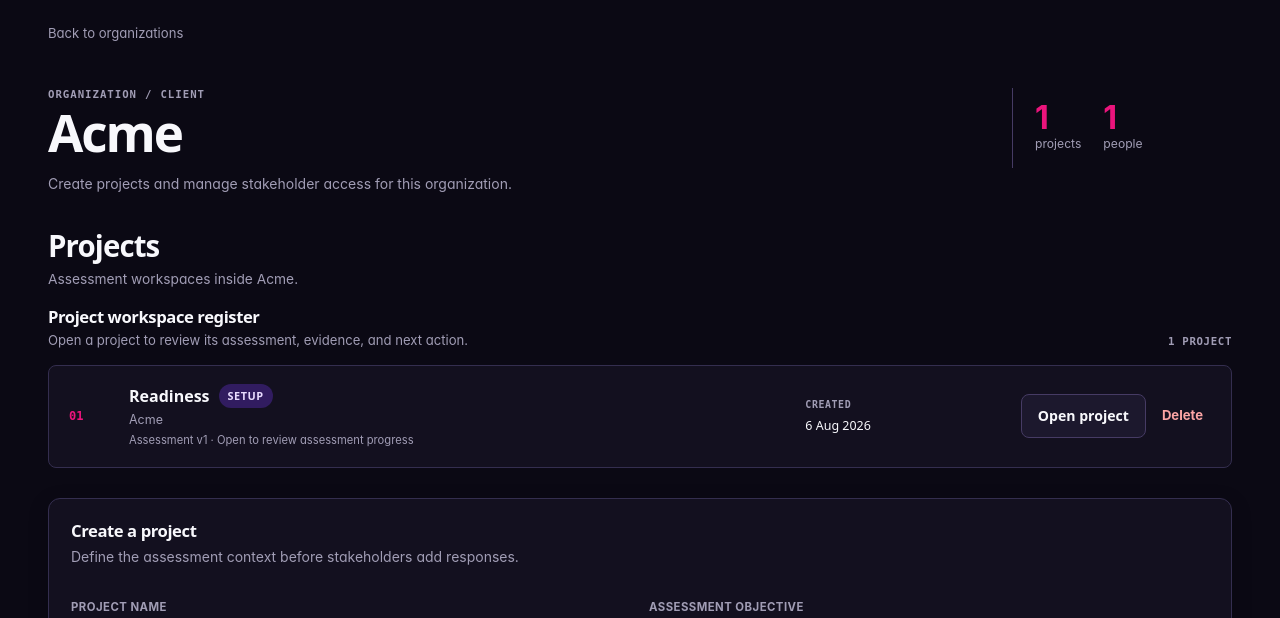
Test: shows a project deletion error and keeps the confirmation open
The image size is (1280, 618).
Click the button with aria-label "Delete Readiness" at (1182, 416), box [1154,394,1211,438]
(page scrolled)
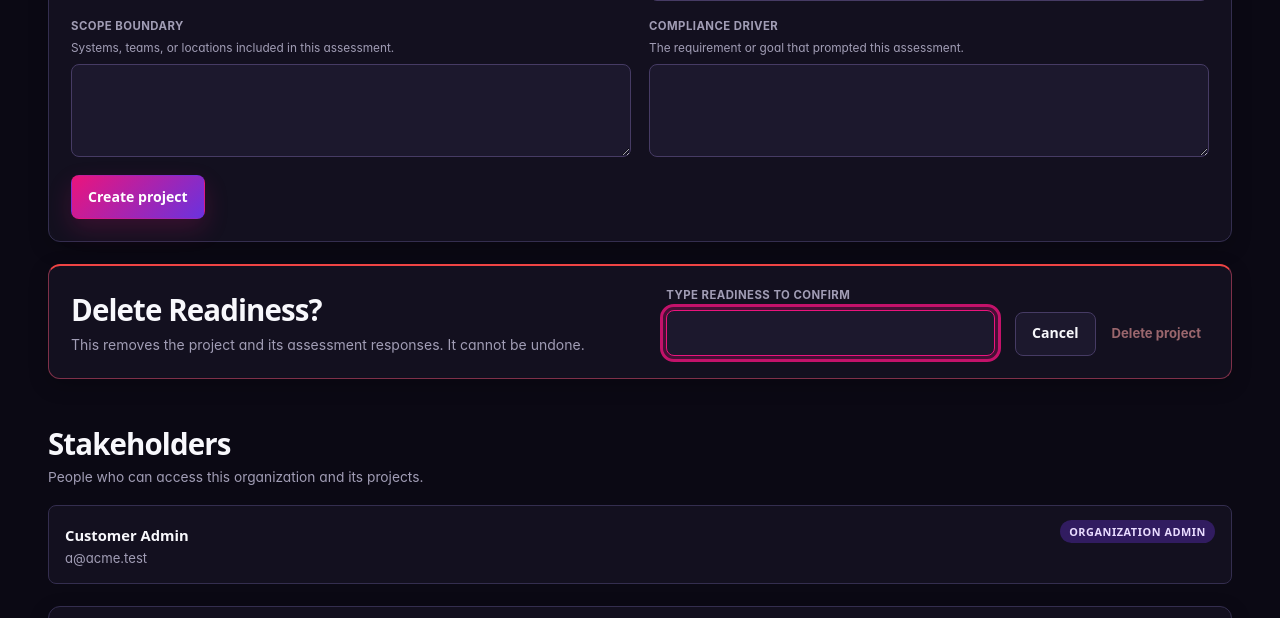
Type "Readiness" into the field labelled "Type Readiness to confirm" at (831, 333), box [666,310,995,356]
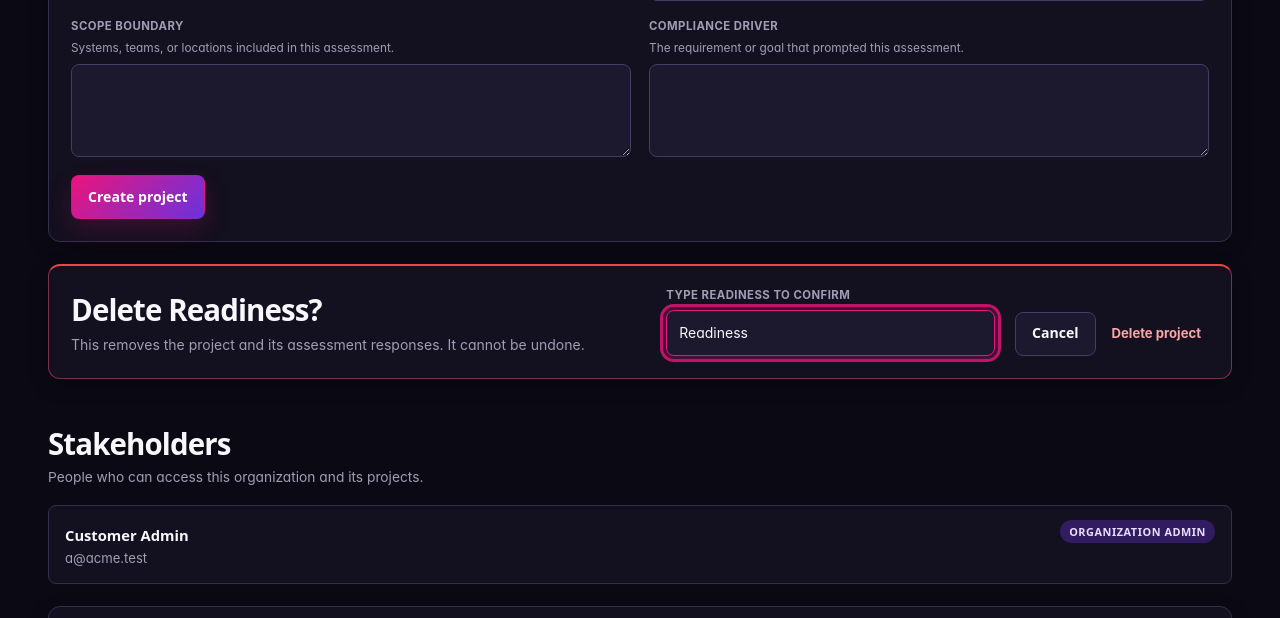
Click the button "Delete project" at (1156, 334), box [1104,312,1209,356]
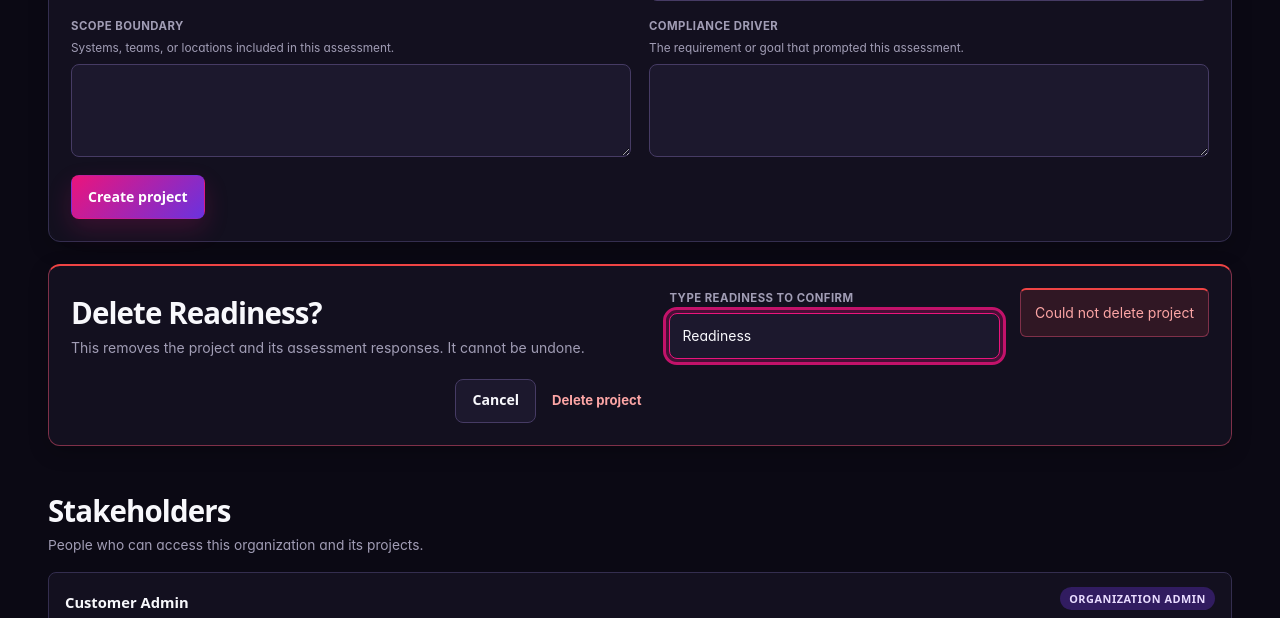
Expected: the dialog "Delete Readiness" is shown, [48,264,1232,446]
Expected: the message reads "Could not delete project", [1035,304,1194,321]
